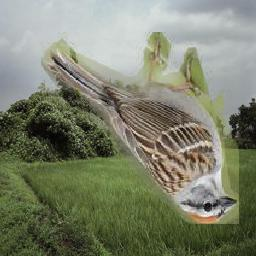Sparrow: (41, 32, 239, 224)
